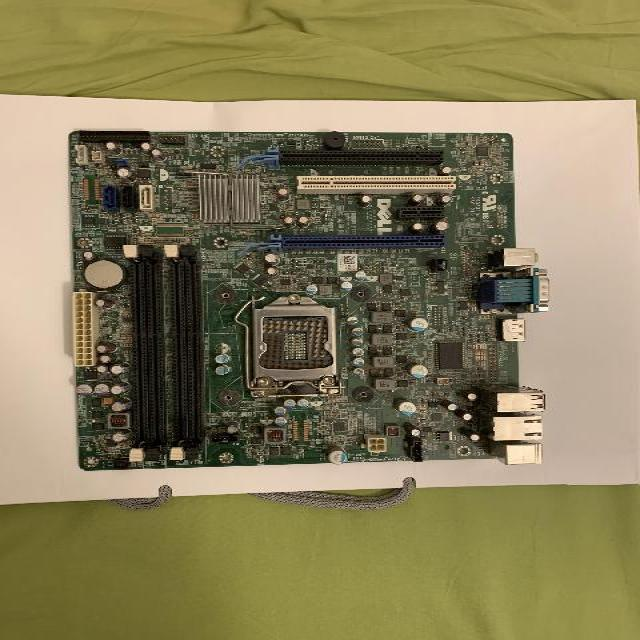Mainboard: (69, 130, 548, 467)
